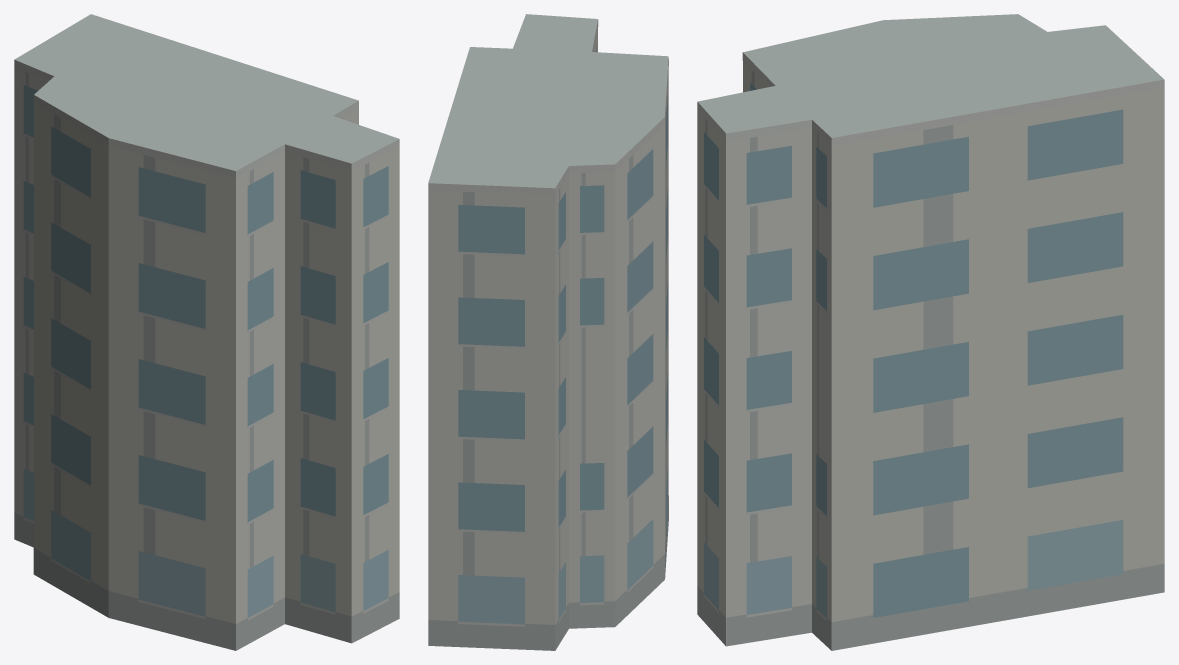
Rendered from survey-upis-32926982.glb.
3 views of the same model, side by side, from view 1: azimuth 30°, elevation 25°; view 2: azimuth 150°, elevation 25°; view 3: azimuth 270°, elevation 25° (orthographic). The views are drawn at different scales.
Parts seen in each view (by area): view 1: survey-upis-32926982.tmp; view 2: survey-upis-32926982.tmp; view 3: survey-upis-32926982.tmp.
Part boxes in pixels (x1,y1,x2,y2): survey-upis-32926982.tmp: (14,14,399,650); survey-upis-32926982.tmp: (428,14,668,650); survey-upis-32926982.tmp: (697,14,1164,650).
Size of the model in its own units: 7.92 by 15.25 by 12.6.
